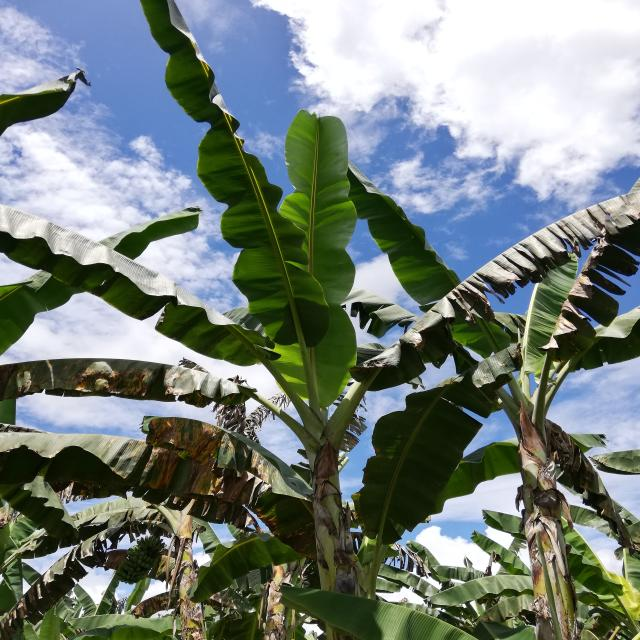Banana-plant: (289, 381, 379, 640), (498, 387, 589, 637)
